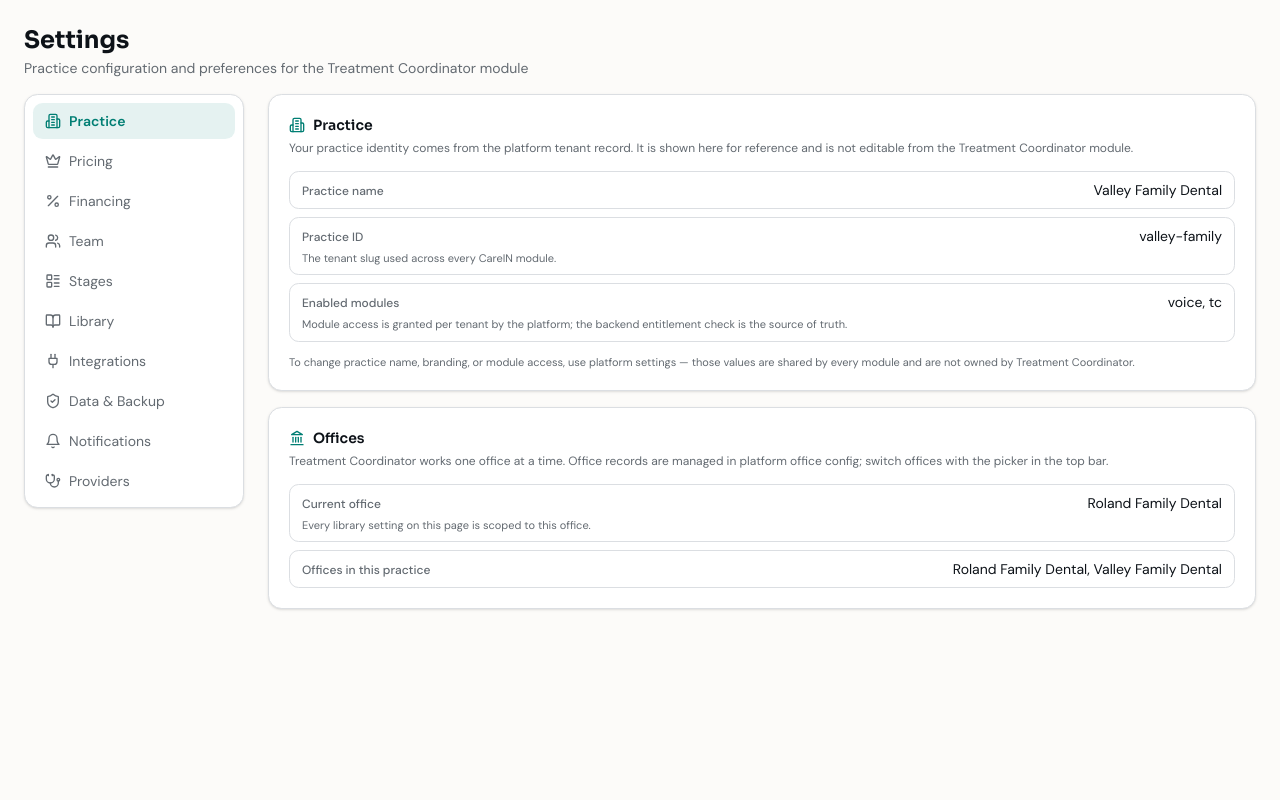
it: TcSettings shell › reuses the office library editors for the library-backed sections
This screenshot has width=1280, height=800.
Expected: the element "Practice" is shown, left=268, top=94, right=1256, bottom=609
What coordinates should you click on to do the following:
click the button "Pricing"
I would click on:
 (134, 161)
Its box is left=33, top=143, right=235, bottom=179.
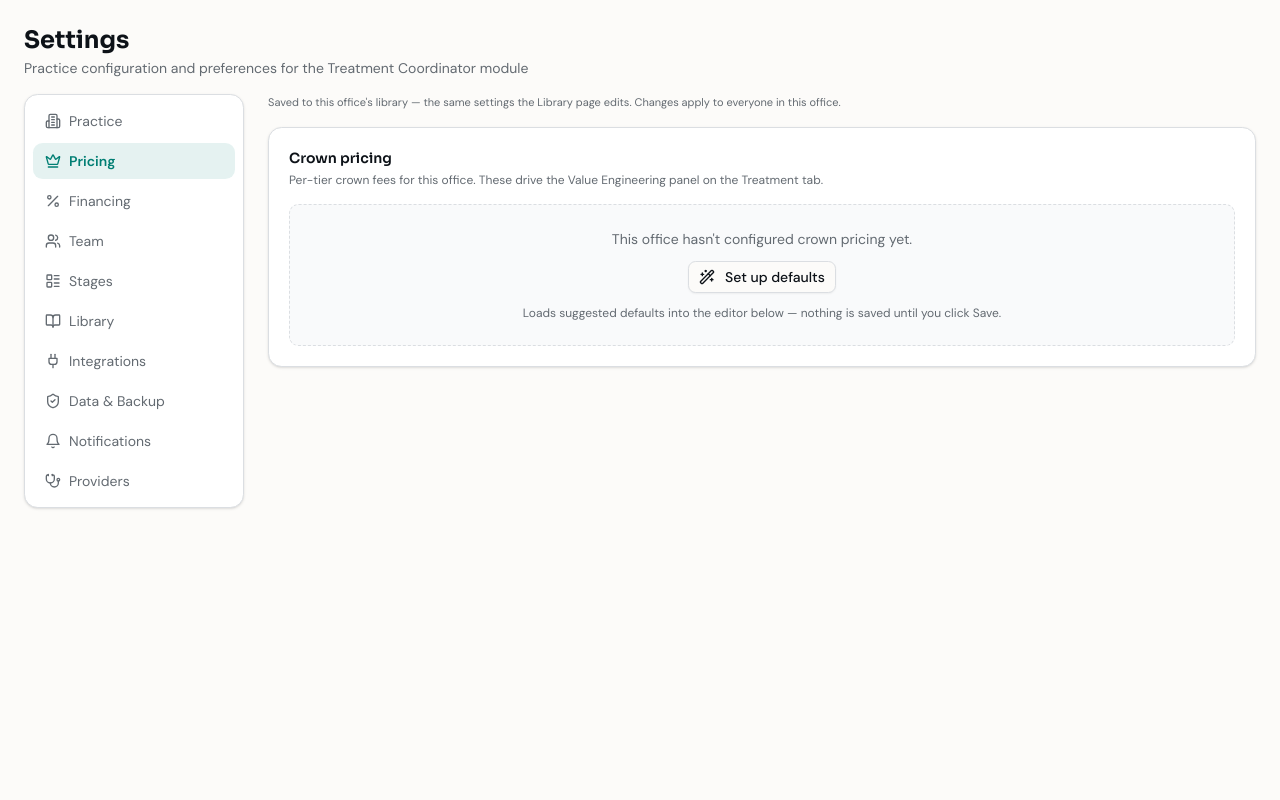
Now the text "same settings the Library page" is shown, box left=268, top=95, right=841, bottom=109
Now the heading "Crown pricing" is shown, box left=289, top=148, right=392, bottom=166
